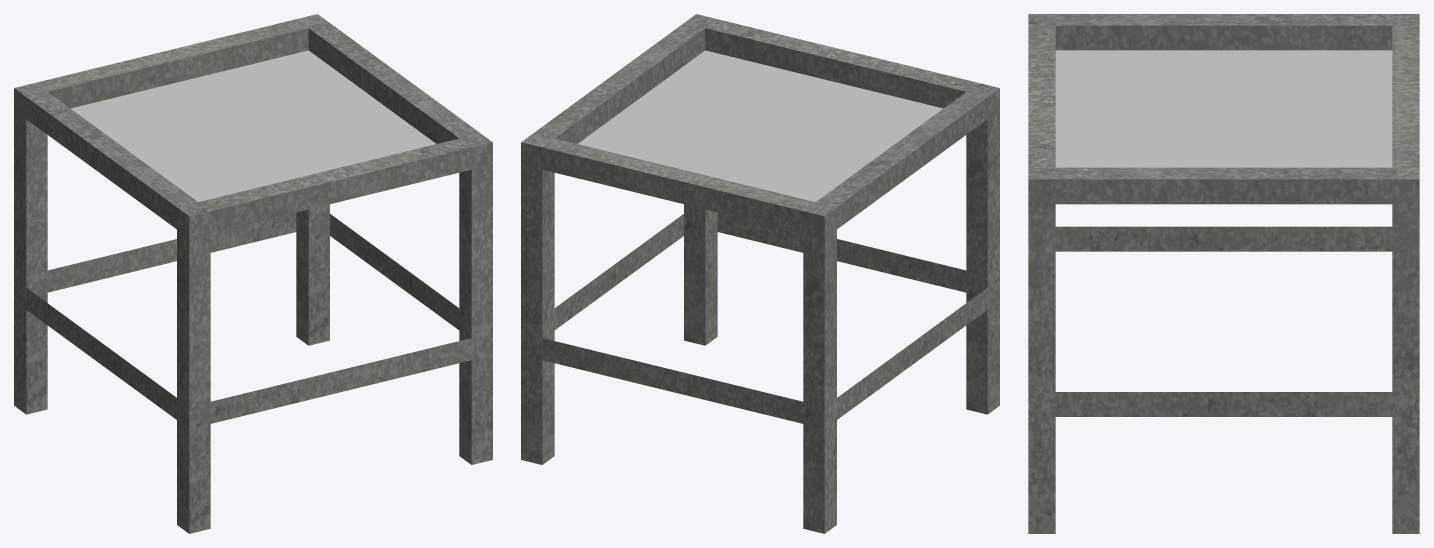
File: scaffolding_structure.dae
3 views of the same model, side by side, from view 1: azimuth 30°, elevation 25°; view 2: azimuth 150°, elevation 25°; view 3: azimuth 270°, elevation 25° (orthographic). The views are drawn at different scales.
Visible parts, largest first — view 1: scaffolding_structure; view 2: scaffolding_structure; view 3: scaffolding_structure.
Boxes of the visible parts, x1,y1,x2,y2 form: scaffolding_structure: (14,14,492,533); scaffolding_structure: (521,14,999,533); scaffolding_structure: (1028,14,1419,533).
Size of the model in its own units: 1 by 1 by 1.
